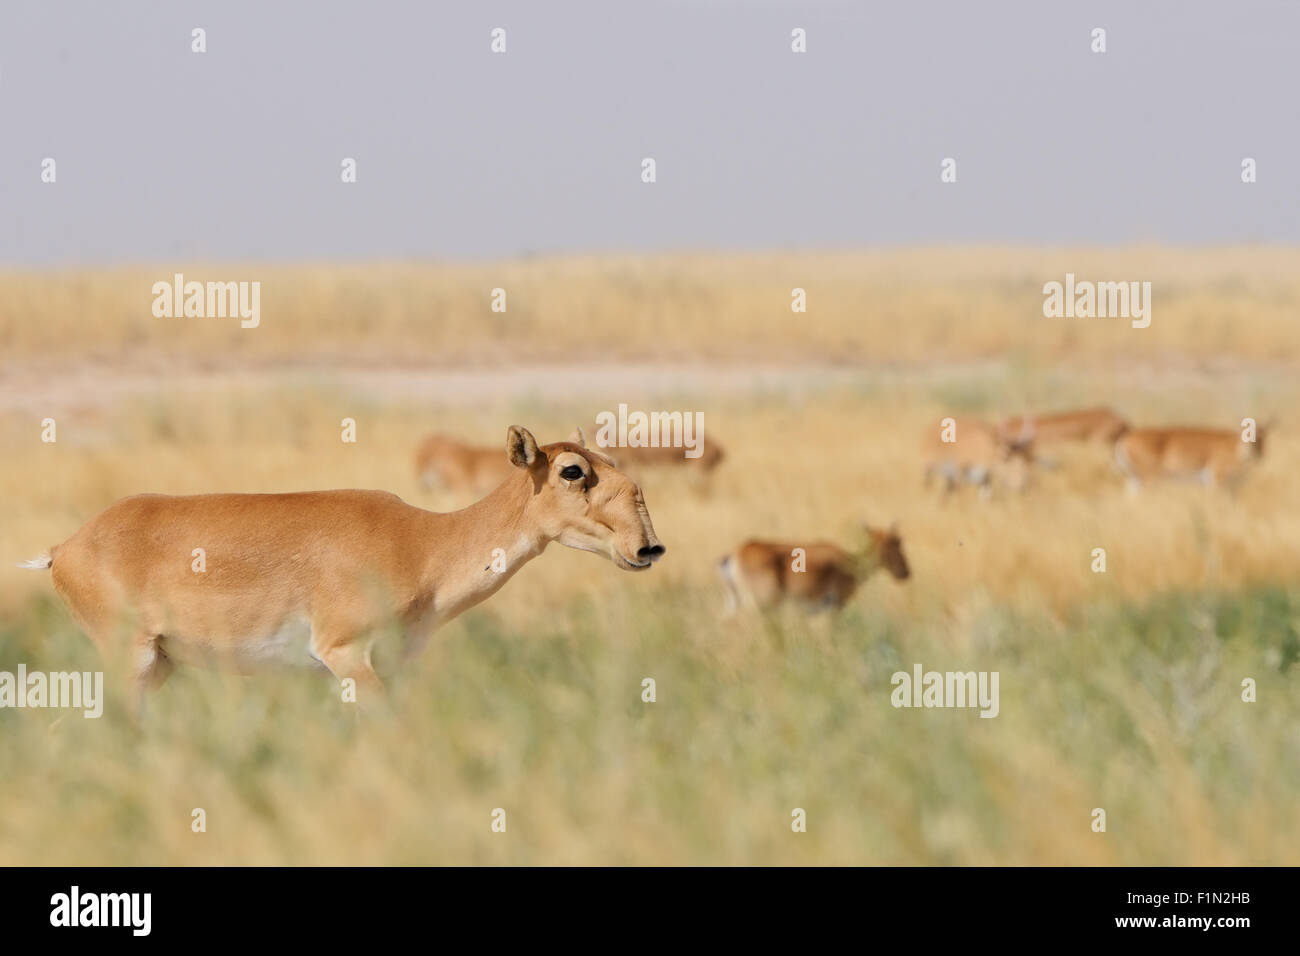saiga: (26, 425, 677, 747)
